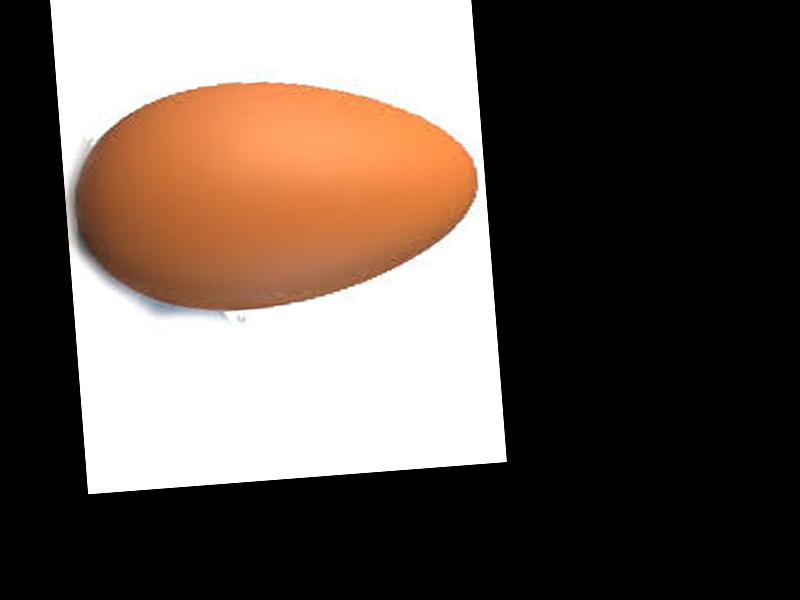Eggs: (67, 64, 483, 320)
